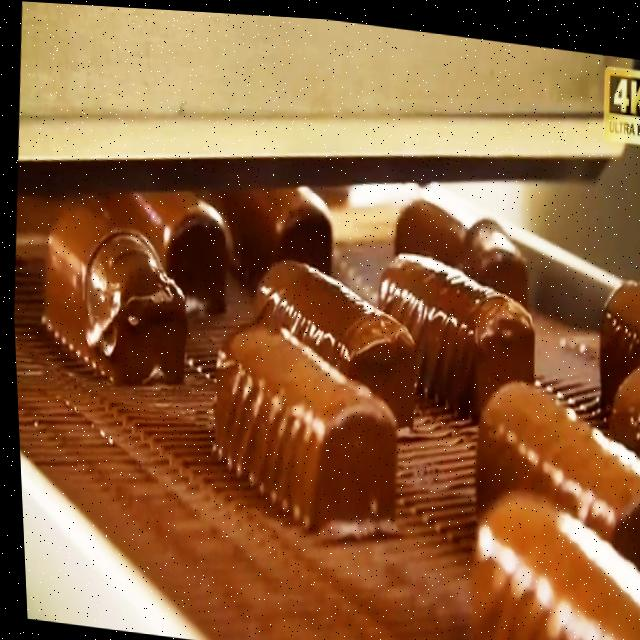Choco: (196, 306, 406, 537), (461, 361, 640, 567), (30, 185, 199, 397), (450, 458, 640, 640), (240, 245, 423, 425), (364, 238, 540, 417), (386, 180, 541, 312), (118, 175, 233, 313), (223, 172, 341, 291), (587, 256, 640, 407)
